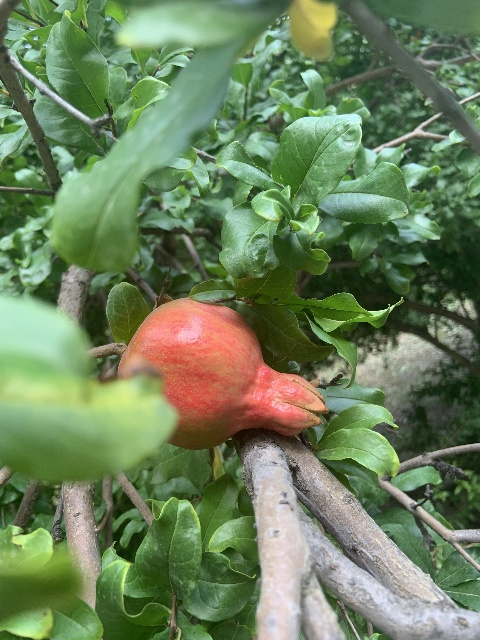ripe: (116, 297, 328, 449)
